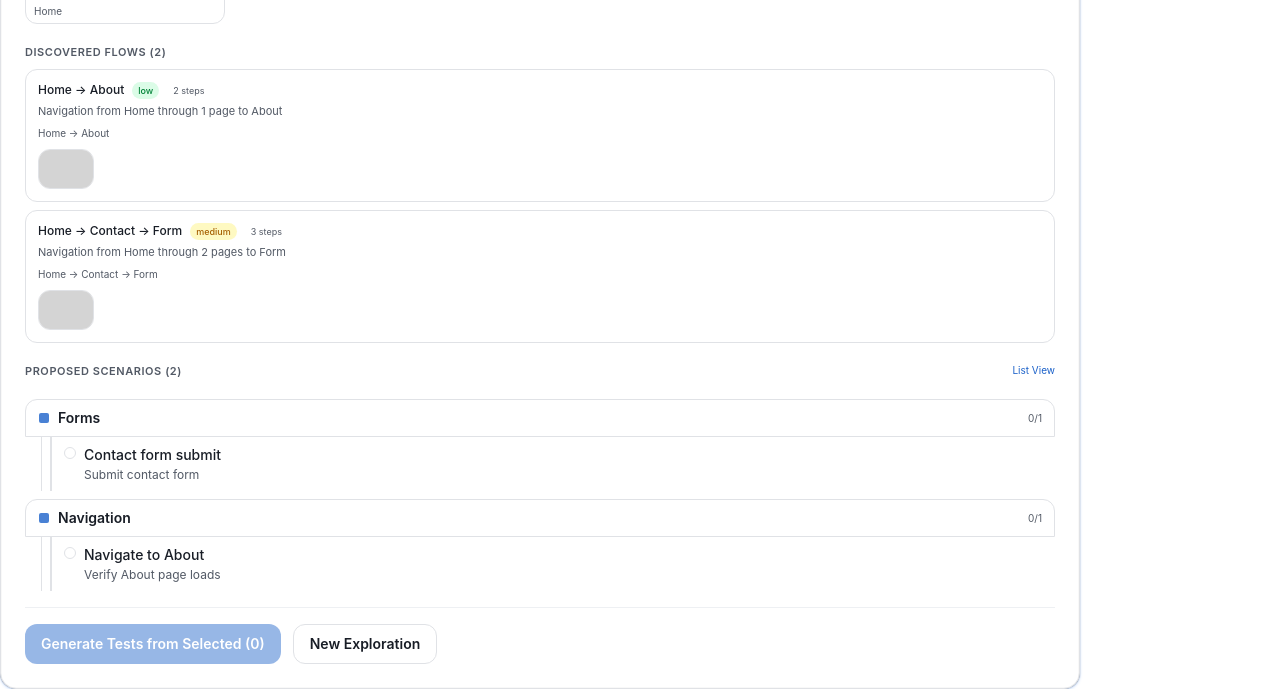
Test case: ExplorePage › generate button shows selected scenario count
(page scrolled)
Click the text "Navigate to About". click: coordinates (144, 555)
box: x1=84 y1=546 x2=204 y2=563
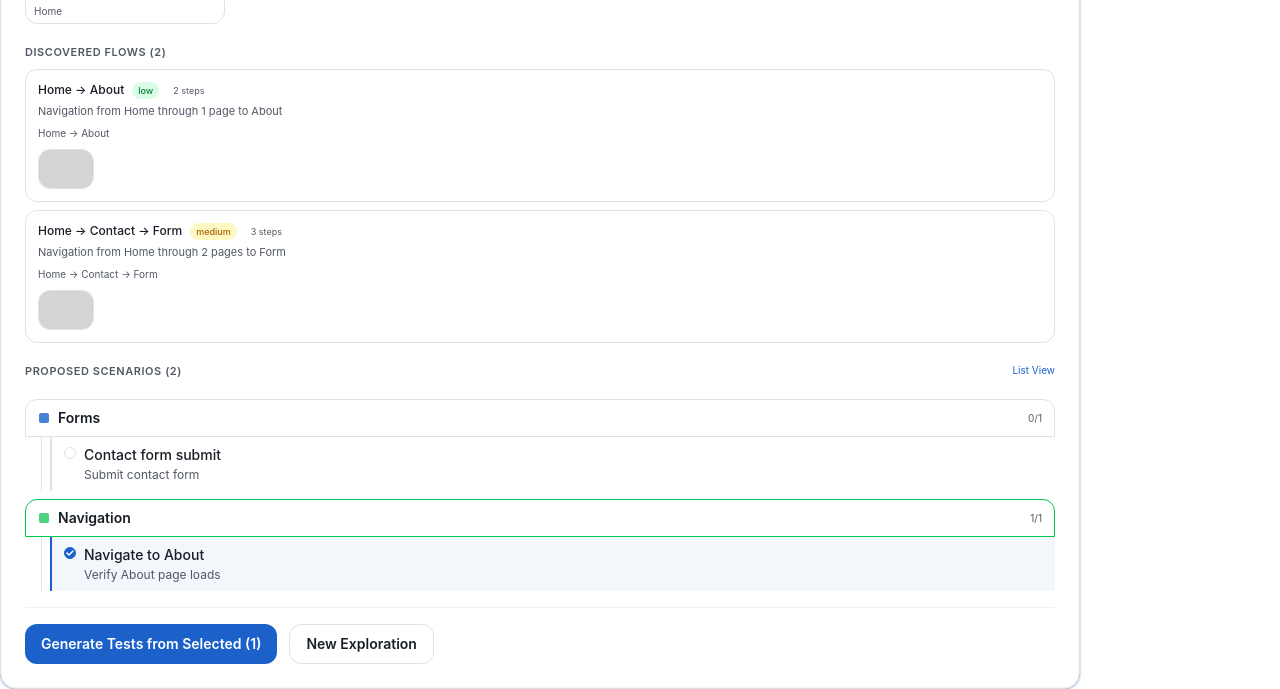
Result: the button "Generate Tests from Selected (1)" is enabled at x1=25 y1=624 x2=277 y2=664
